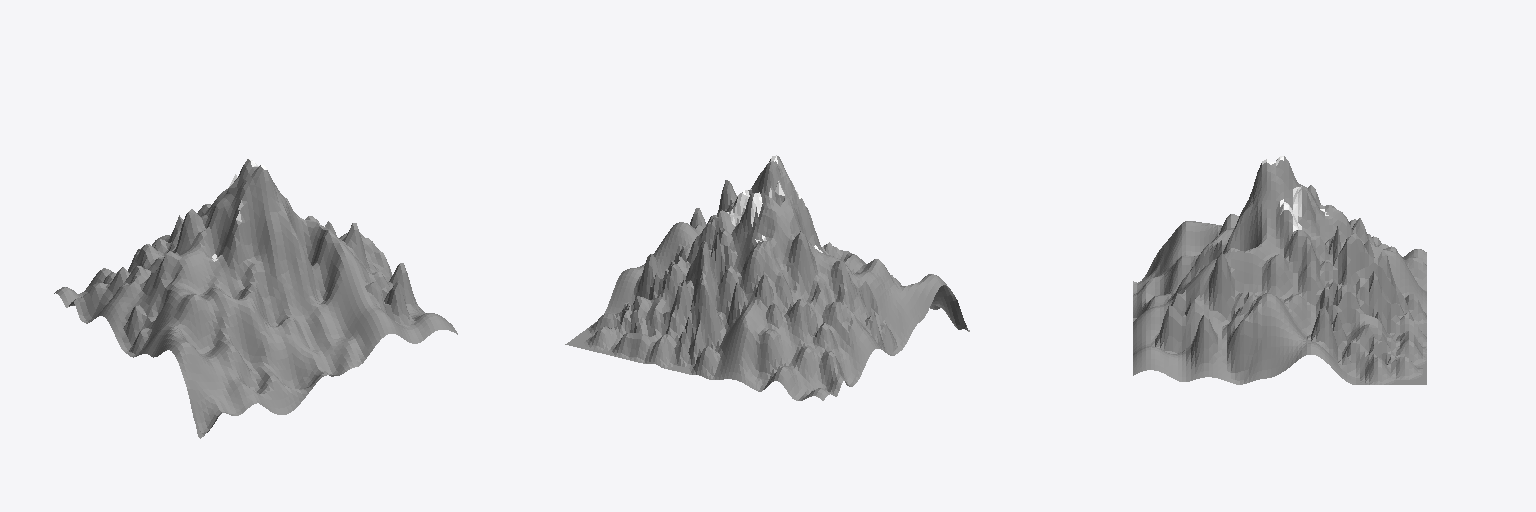
The picture shows the model from 3 angles: view 1: azimuth 30°, elevation 25°; view 2: azimuth 150°, elevation 25°; view 3: azimuth 270°, elevation 25°; orthographic projection.
Parts seen in each view (by area): view 1: Mountain; view 2: Mountain; view 3: Mountain.
Boxes of the visible parts, x1=… form: Mountain: x1=54, y1=159, x2=457, y2=438; Mountain: x1=565, y1=155, x2=969, y2=400; Mountain: x1=1133, y1=156, x2=1426, y2=384.
Size of the model in its own units: 216 by 155 by 212.
2 materials, 2 textured.